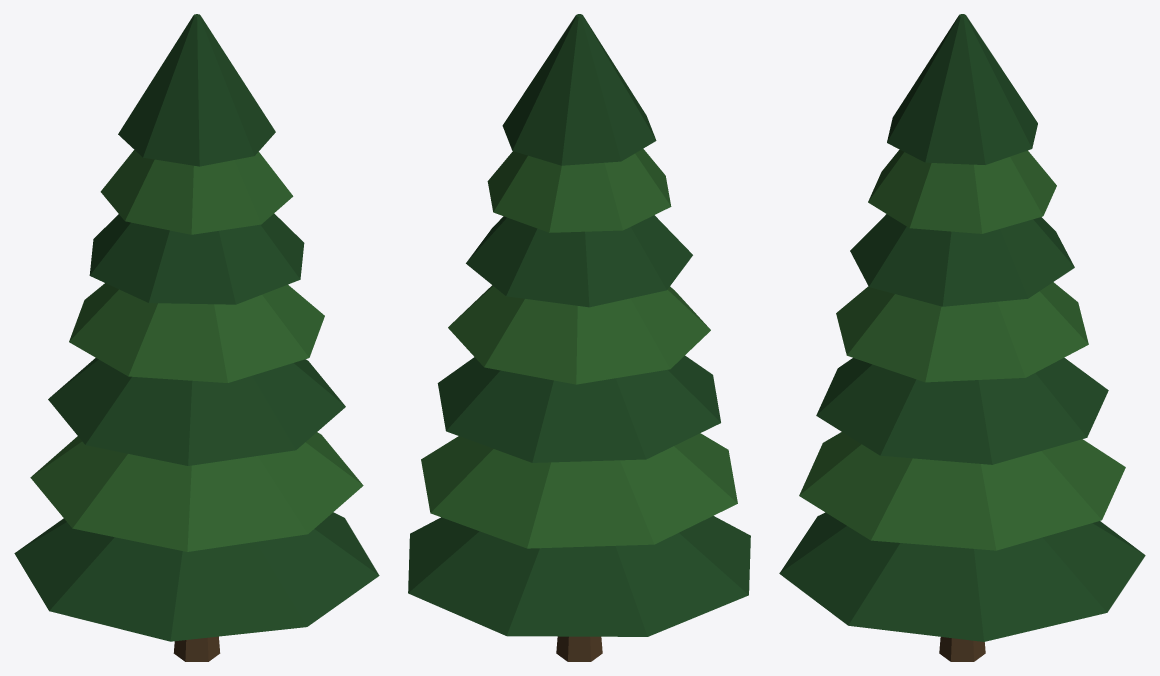
Rendered from tree_pine_3.glb.
3 views of the same model, side by side, from view 1: azimuth 30°, elevation 25°; view 2: azimuth 150°, elevation 25°; view 3: azimuth 270°, elevation 25° (orthographic).
Parts seen in each view (by area): view 1: tree_pine_3; view 2: tree_pine_3; view 3: tree_pine_3.
Boxes of the visible parts, box(x1,y1,x2,y2) form: tree_pine_3: box(14, 14, 379, 661); tree_pine_3: box(408, 14, 750, 661); tree_pine_3: box(779, 14, 1145, 661).
Size of what is drawn, in the model's own units: 4.9 by 9.41 by 4.9.
